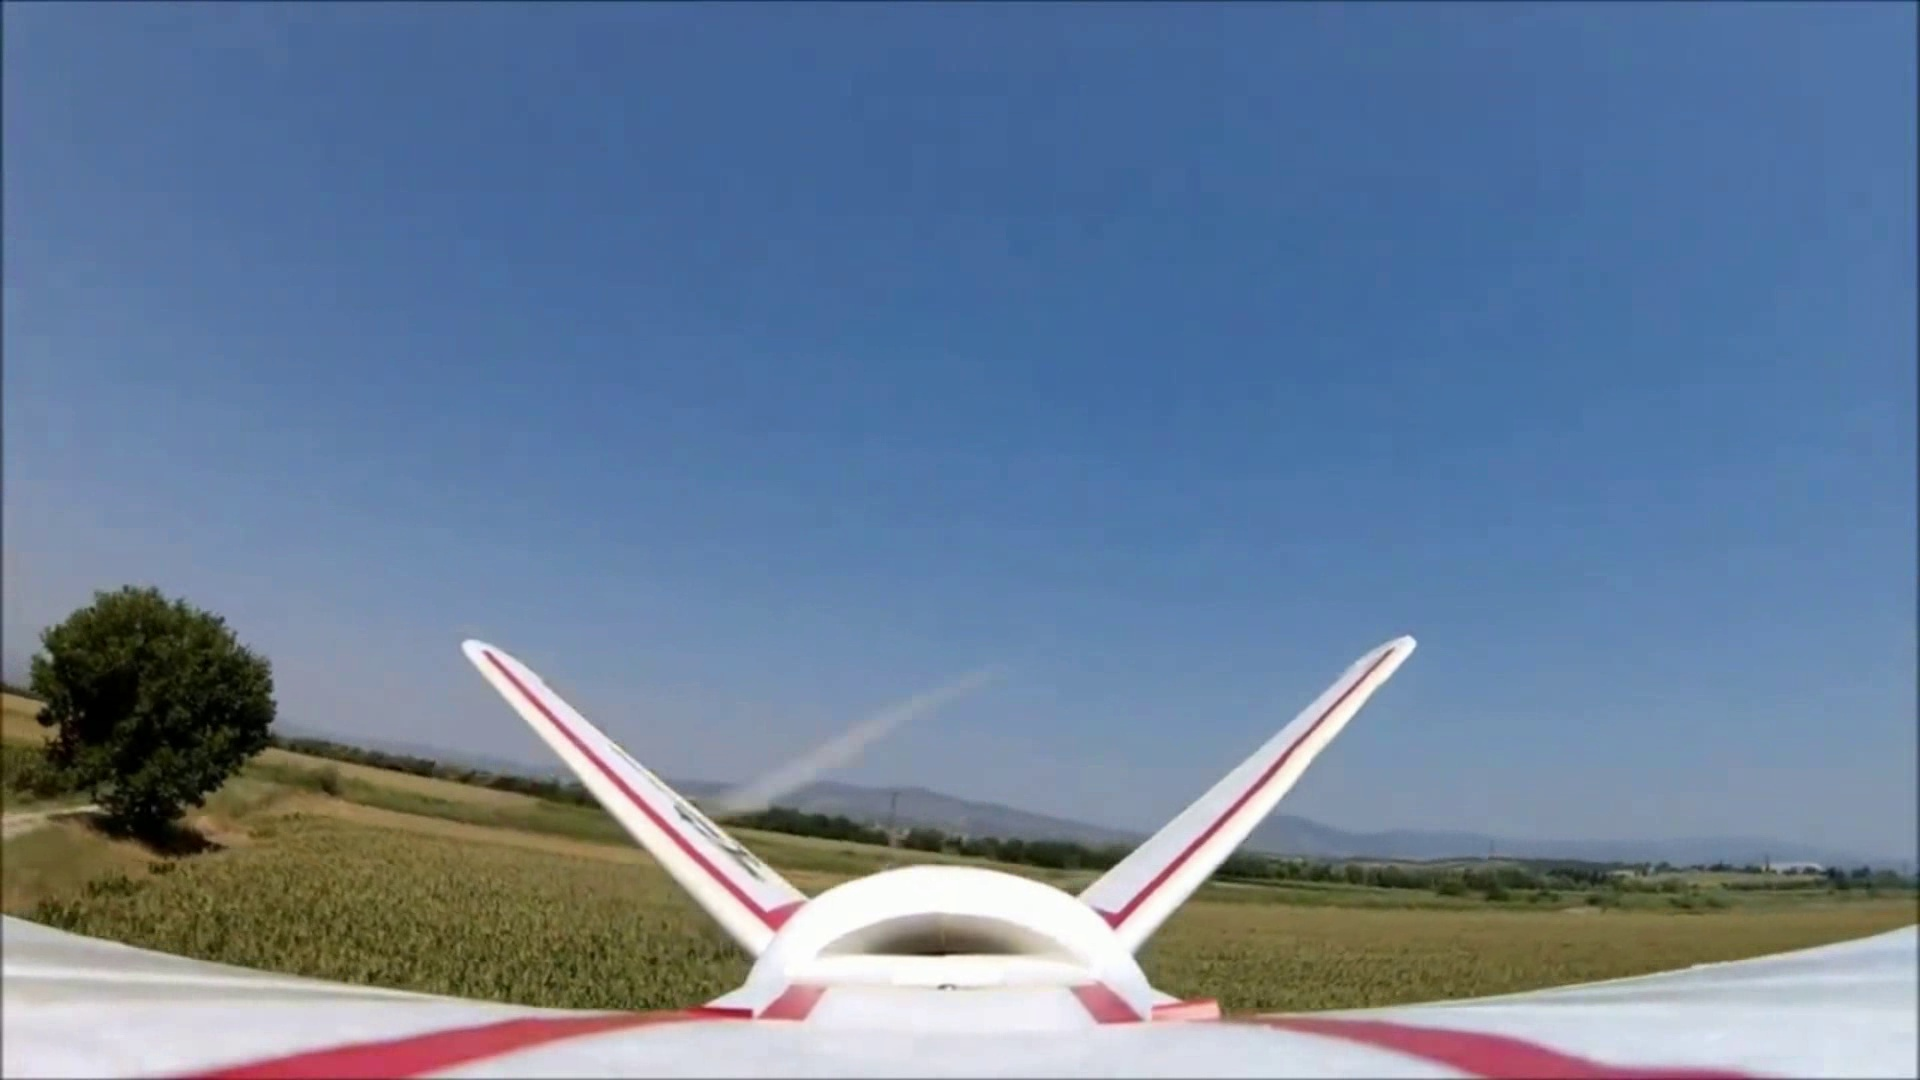airplane: (11, 636, 1708, 1067), (460, 632, 1414, 1034)
